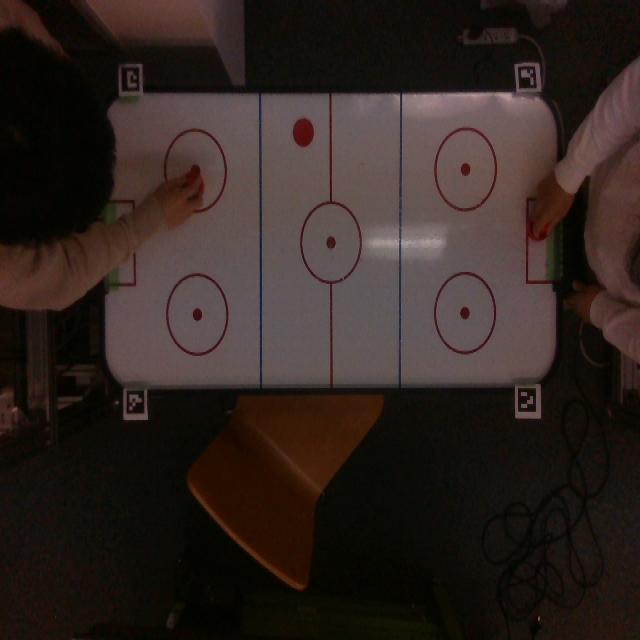puck: (293, 118, 314, 147)
